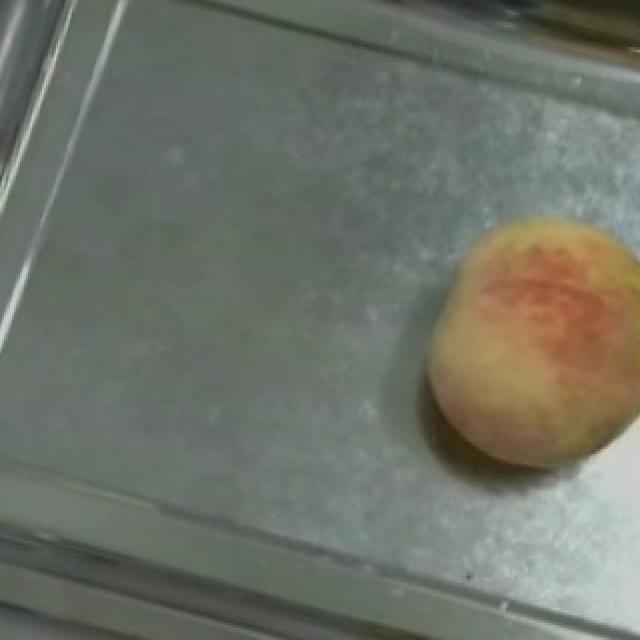Fruit: (384, 181, 640, 504)
